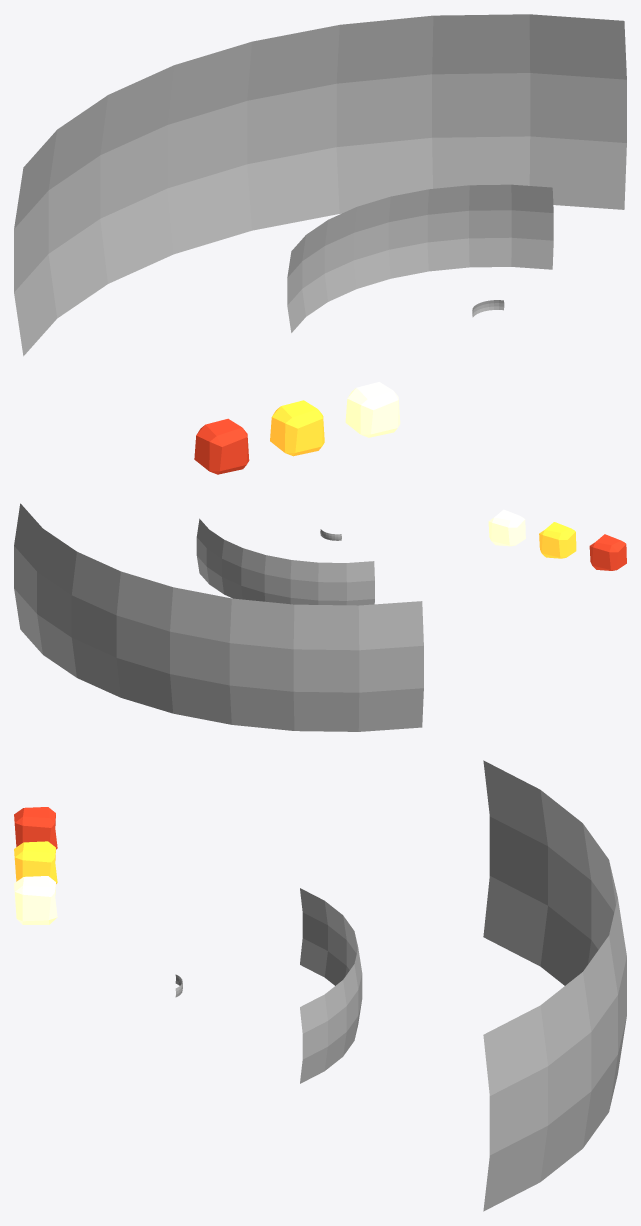
Rendered from FX_FlameSpray90.fbx.
The picture shows the model from 3 angles, top to bottom: view 1: azimuth 30°, elevation 25°; view 2: azimuth 150°, elevation 25°; view 3: azimuth 270°, elevation 25°; orthographic projection. The views are drawn at different scales.
Parts seen in each view (by area): view 1: FX_FlameSpray90_Shape_Outer, FX_FlameSpray90_Shape_Mid, FX_FlameSpray90_Chunk_Mid, FX_FlameSpray90_Chunk_Outer, FX_FlameSpray90_Chunk_Core; view 2: FX_FlameSpray90_Shape_Outer, FX_FlameSpray90_Shape_Mid, FX_FlameSpray90_Chunk_Mid, FX_FlameSpray90_Chunk_Core, FX_FlameSpray90_Chunk_Outer; view 3: FX_FlameSpray90_Shape_Outer, FX_FlameSpray90_Shape_Mid, FX_FlameSpray90_Chunk_Core, FX_FlameSpray90_Chunk_Outer, FX_FlameSpray90_Chunk_Mid.
Boxes of the visible parts, bbox=[...] form: FX_FlameSpray90_Shape_Outer: bbox=[14, 14, 626, 356]; FX_FlameSpray90_Shape_Mid: bbox=[287, 184, 553, 332]; FX_FlameSpray90_Chunk_Mid: bbox=[270, 400, 324, 456]; FX_FlameSpray90_Chunk_Outer: bbox=[194, 418, 249, 474]; FX_FlameSpray90_Chunk_Core: bbox=[345, 382, 400, 437]; FX_FlameSpray90_Shape_Outer: bbox=[14, 503, 423, 731]; FX_FlameSpray90_Shape_Mid: bbox=[196, 518, 374, 605]; FX_FlameSpray90_Chunk_Mid: bbox=[539, 522, 576, 558]; FX_FlameSpray90_Chunk_Core: bbox=[488, 509, 525, 546]; FX_FlameSpray90_Chunk_Outer: bbox=[589, 534, 626, 570]; FX_FlameSpray90_Shape_Outer: bbox=[483, 760, 626, 1211]; FX_FlameSpray90_Shape_Mid: bbox=[300, 888, 362, 1083]; FX_FlameSpray90_Chunk_Core: bbox=[14, 876, 57, 924]; FX_FlameSpray90_Chunk_Outer: bbox=[14, 807, 57, 849]; FX_FlameSpray90_Chunk_Mid: bbox=[14, 841, 57, 883].
Bounding box in the file's own units: 3.53 × 0.9564 × 3.
